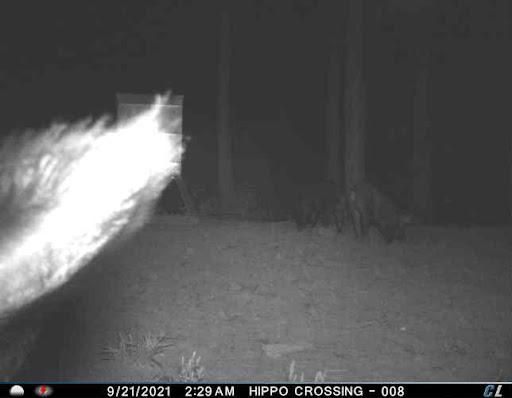Hog: (340, 177, 418, 250), (287, 174, 347, 231)
